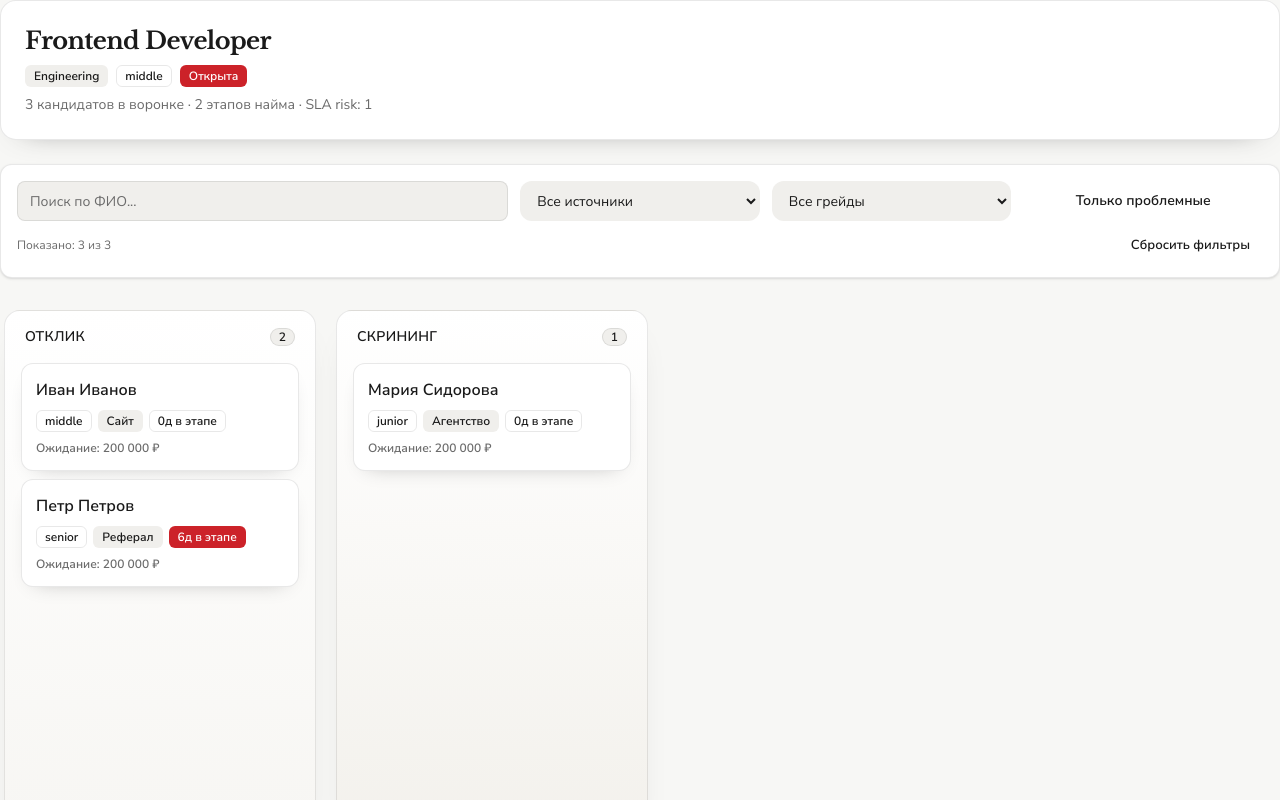
Test: BoardClient filters › shows only stalled candidates when toggle enabled
Click the button "Только проблемные".
click(1143, 201)  # box [1023,181,1263,221]
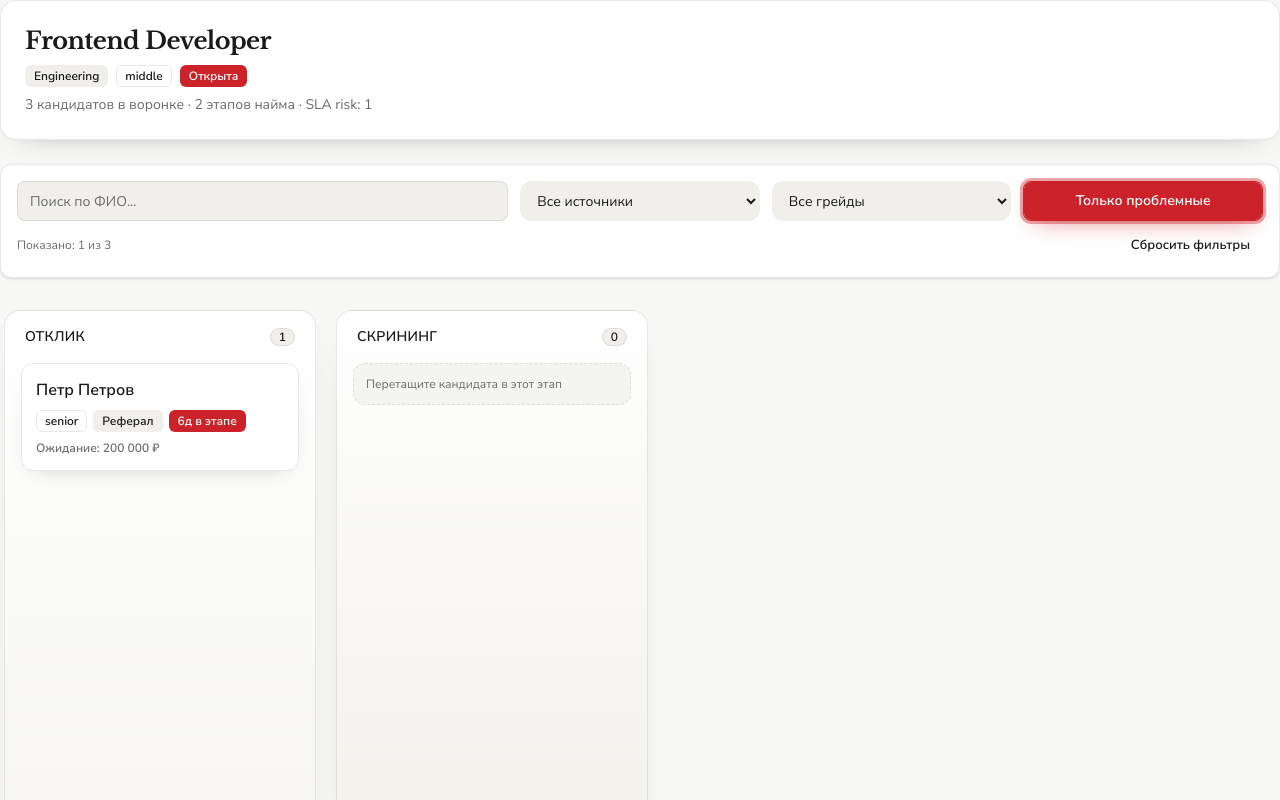
Expected: the text "Показано: 1 из 3" is shown, [17,237,111,253]
